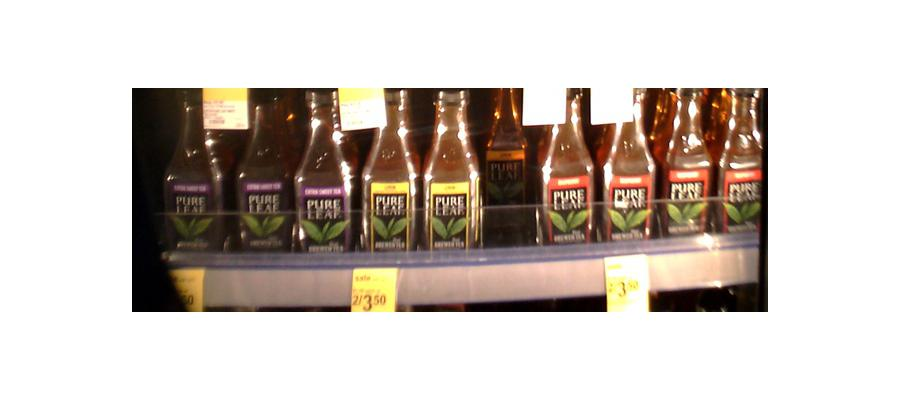bottle: (418, 83, 479, 255), (295, 90, 356, 252), (361, 84, 418, 254), (235, 86, 291, 253), (541, 88, 599, 248), (162, 89, 219, 251), (604, 93, 657, 244), (660, 90, 709, 235), (716, 86, 761, 237), (483, 84, 527, 228)
